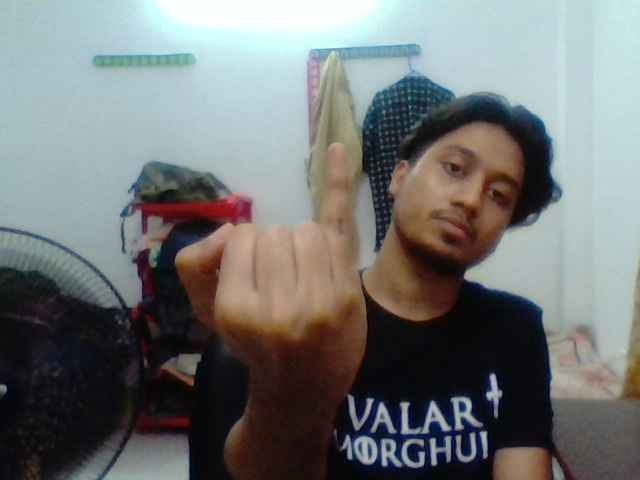I: (209, 126, 375, 352)
